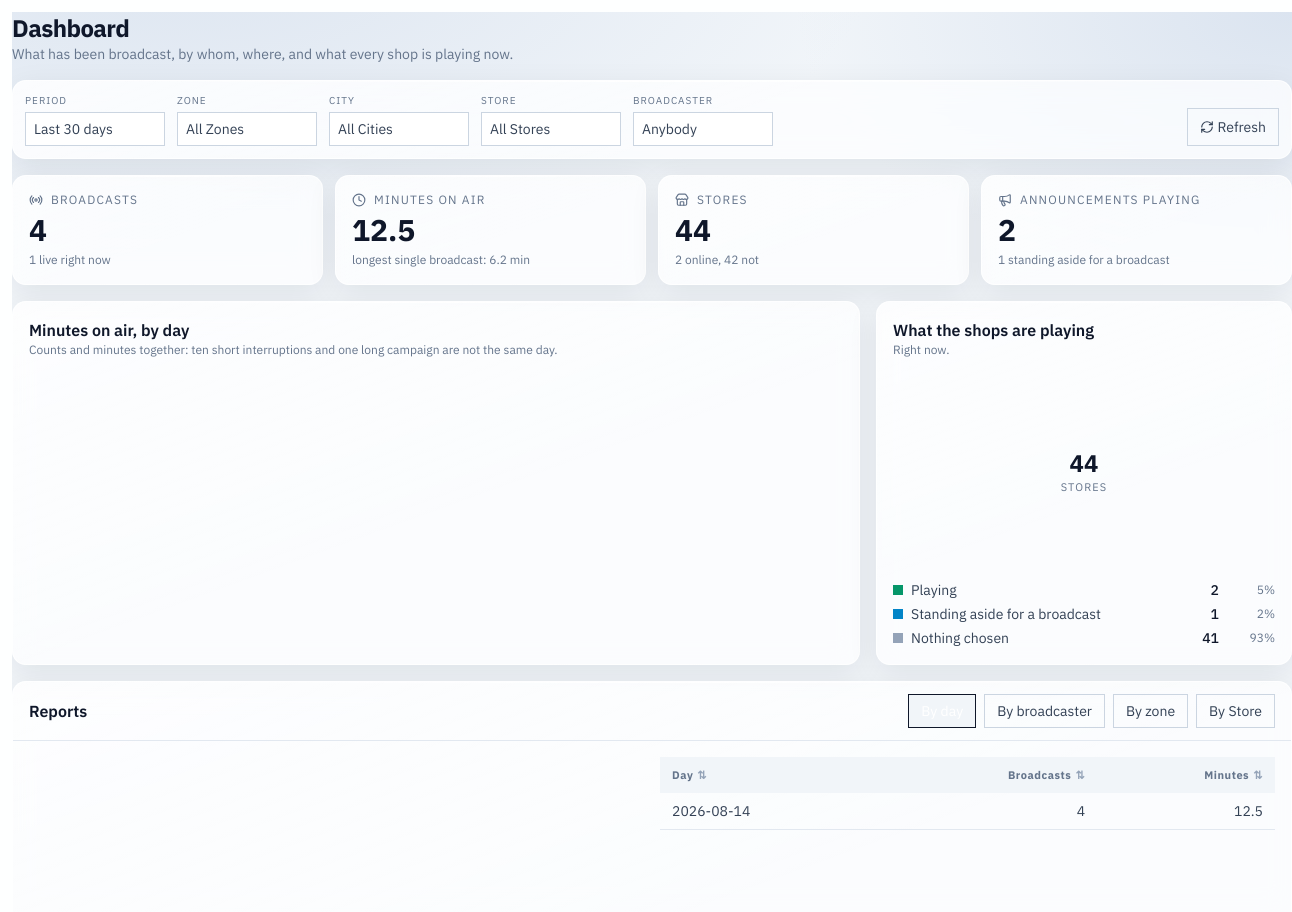
Test: every report is both a chart and a table
Expected: the element with test id "tile-broadcasts" is shown, top-left (12, 175), bottom-right (323, 285)
Click the button "By day" at (942, 711), box top-left (908, 694), bottom-right (976, 728)
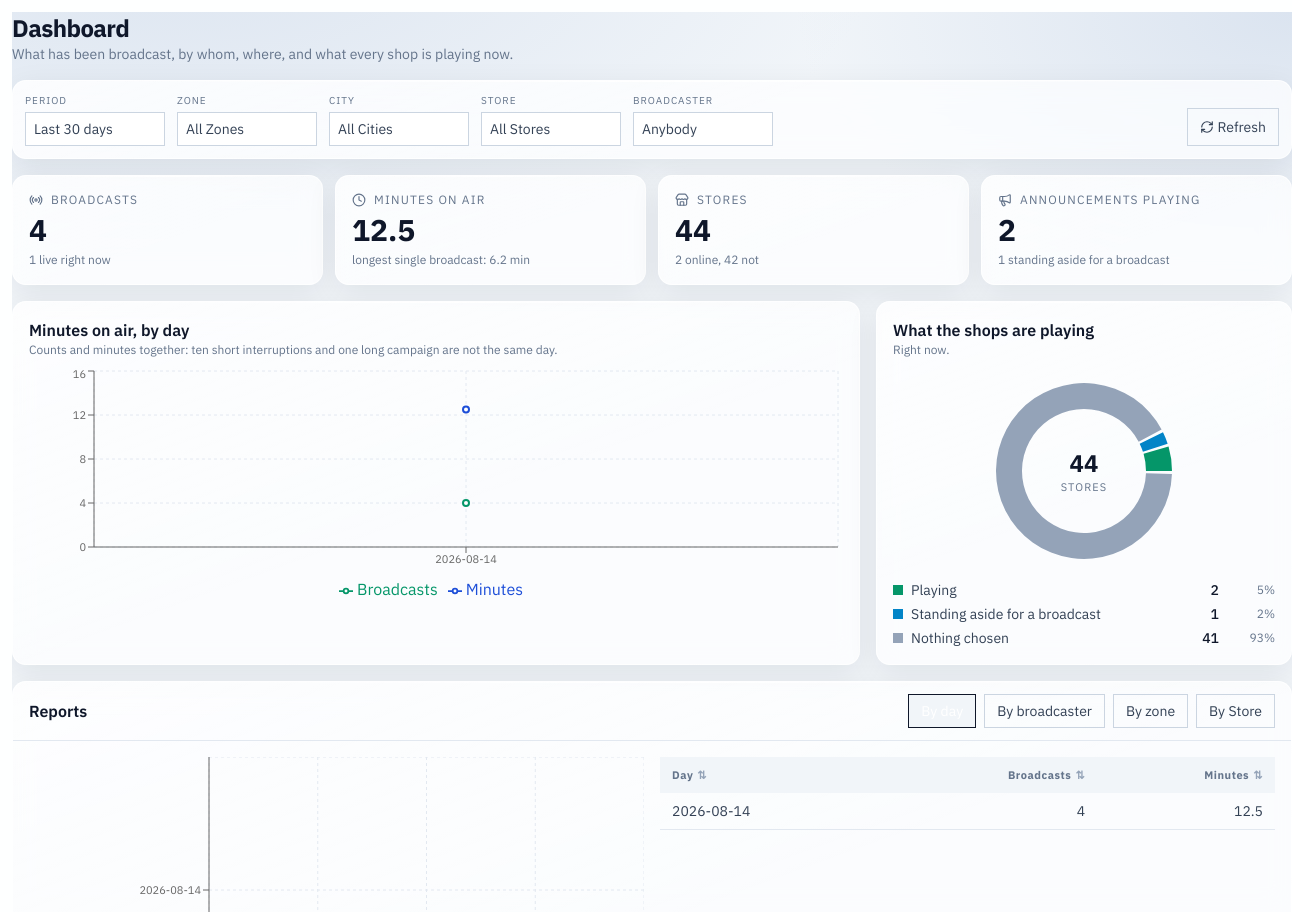
Click the button "By broadcaster" at (1044, 711), box top-left (984, 694), bottom-right (1105, 728)
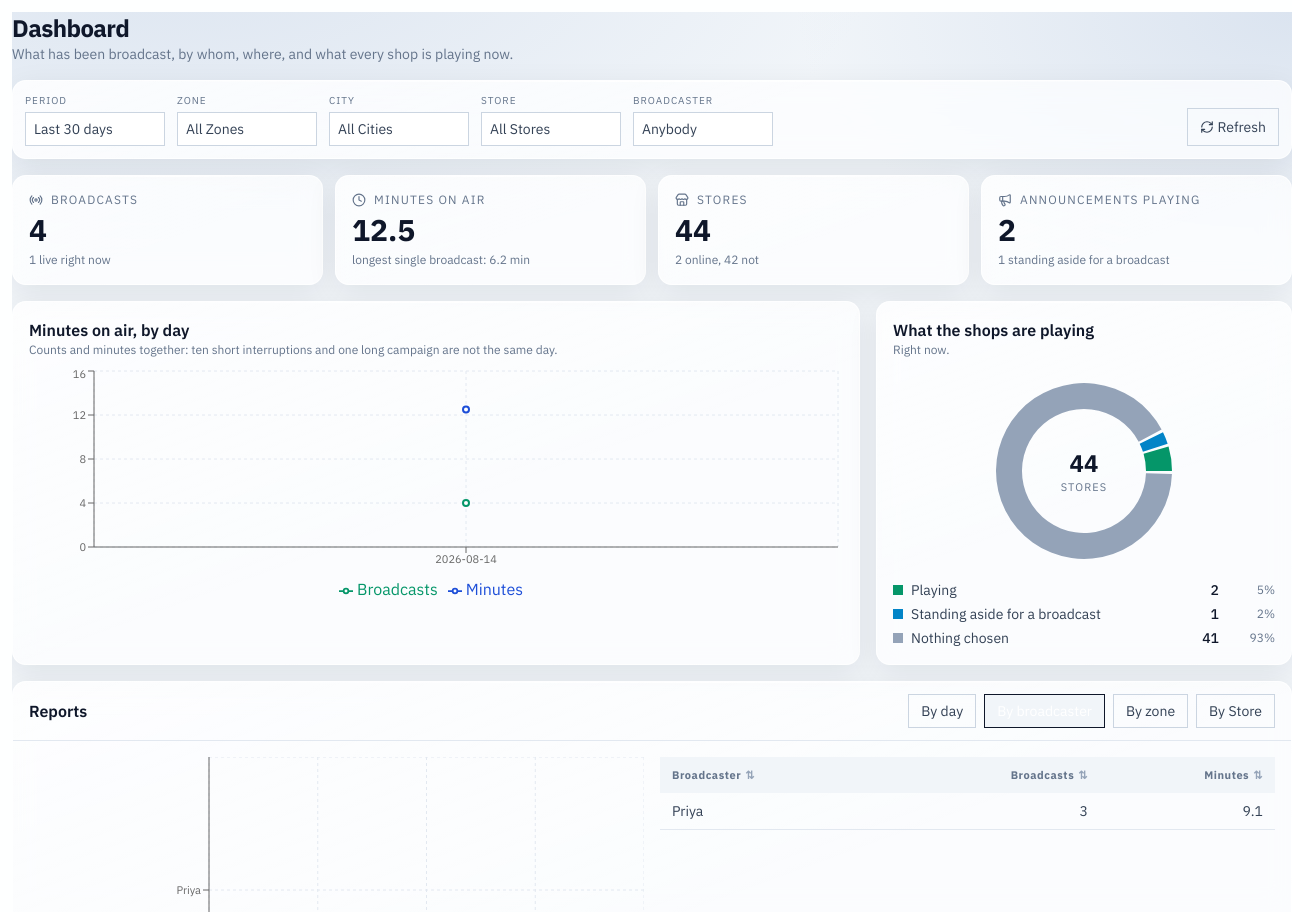
Click the button "By zone" at (1151, 711), box top-left (1113, 694), bottom-right (1188, 728)
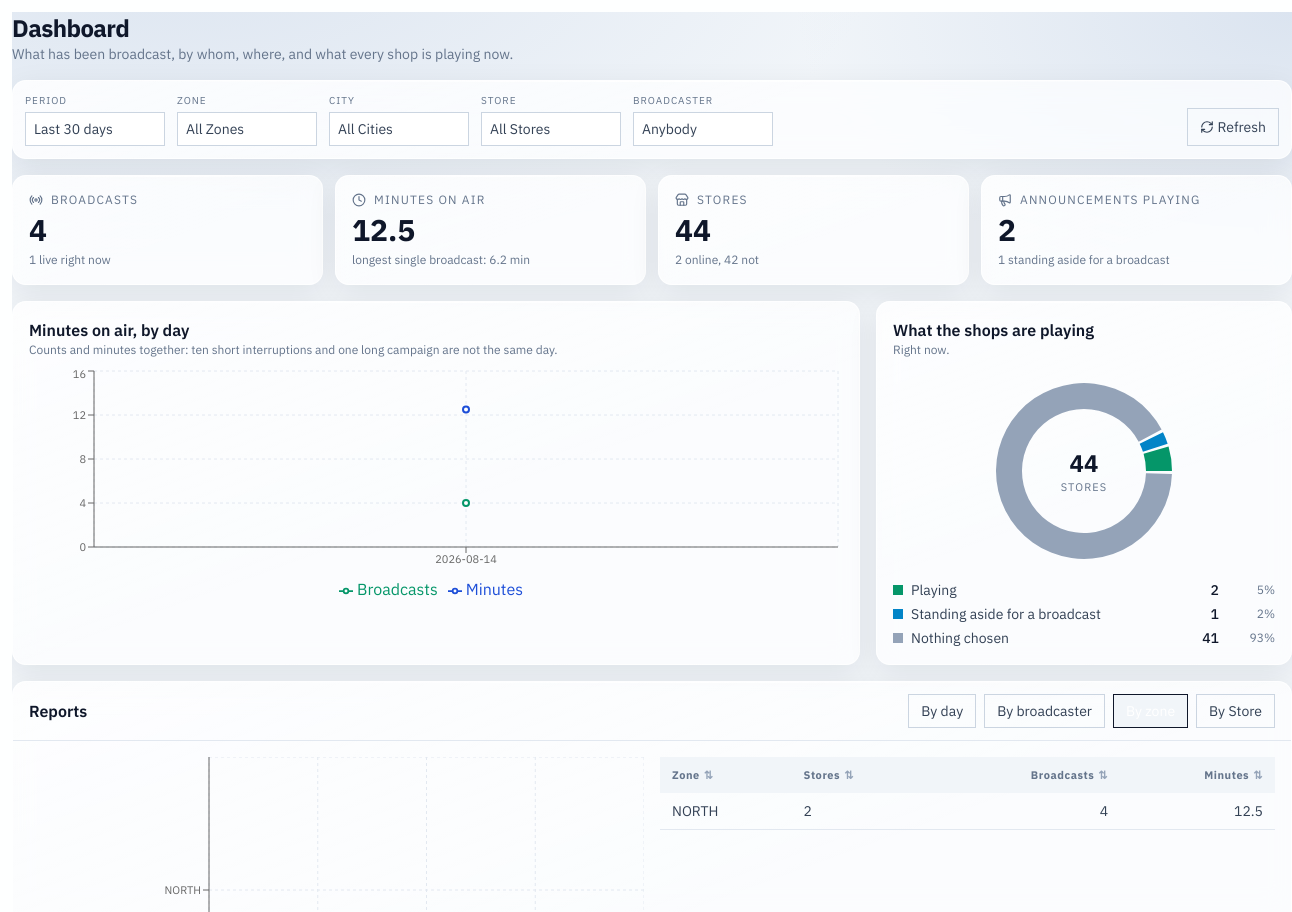
Click the button with test id "report-tab-by_store" at (1236, 711), box top-left (1196, 694), bottom-right (1275, 728)
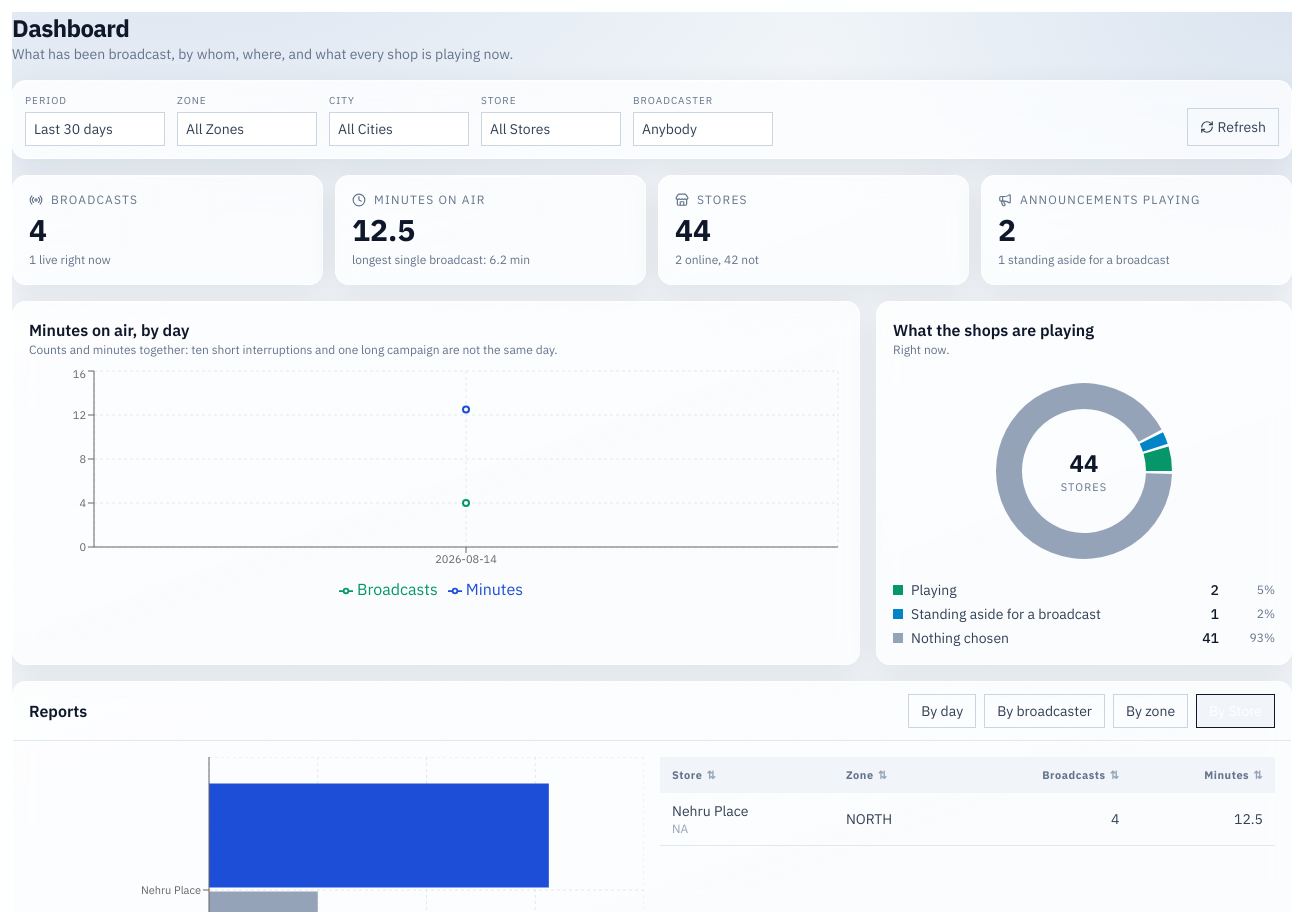
Expected: the table with test id "report-table-by_store" is shown, top-left (660, 757), bottom-right (1275, 846)
